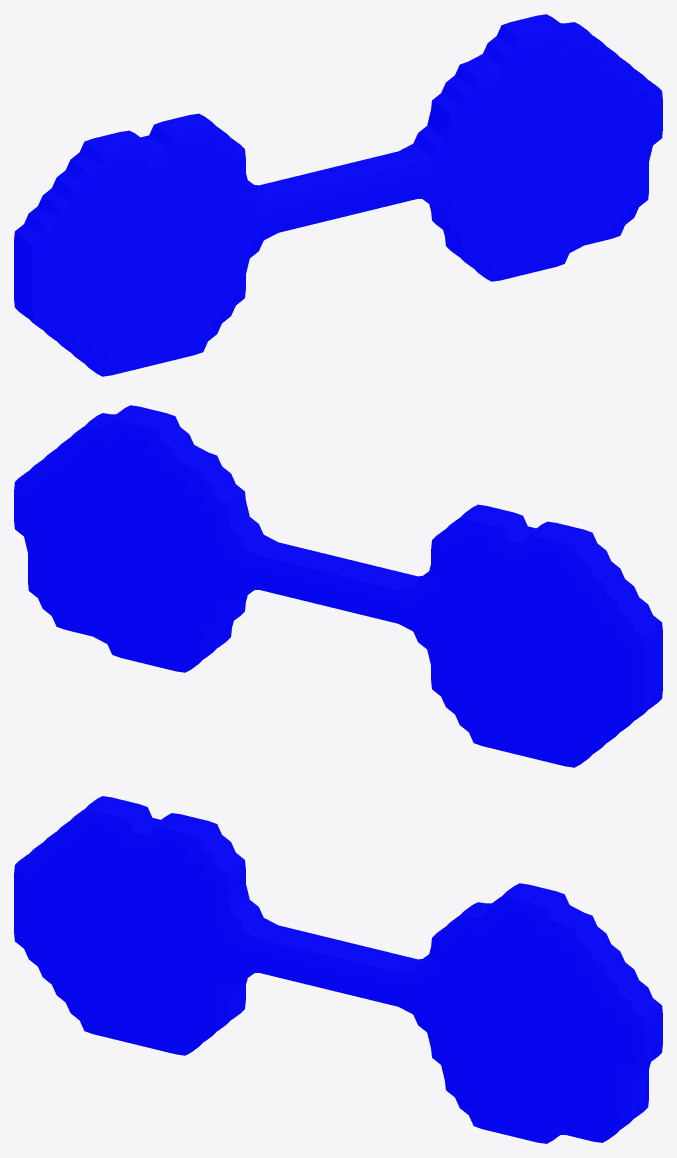
File: rotation.glb
The picture shows the model from 3 angles, top to bottom: view 1: azimuth 30°, elevation 25°; view 2: azimuth 150°, elevation 25°; view 3: azimuth 330°, elevation 25°; orthographic projection.
Size of what is drawn, in the model's own units: 45.5 by 16.5 by 2.5.
